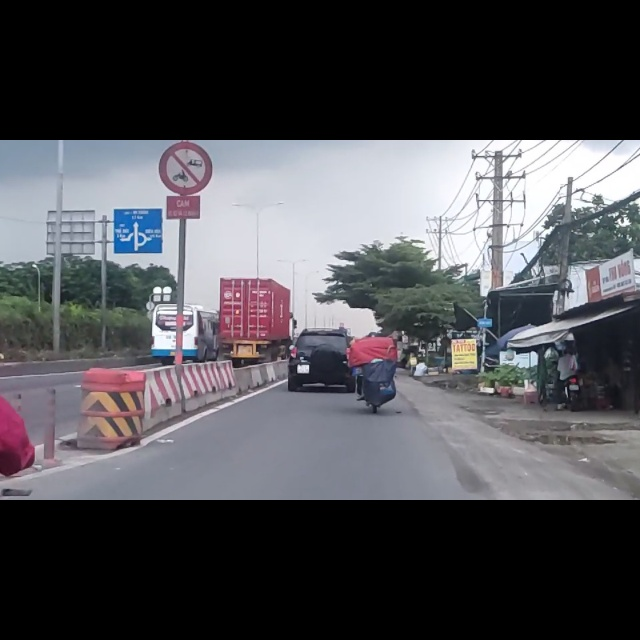bien_cam: (157, 3, 215, 97)
